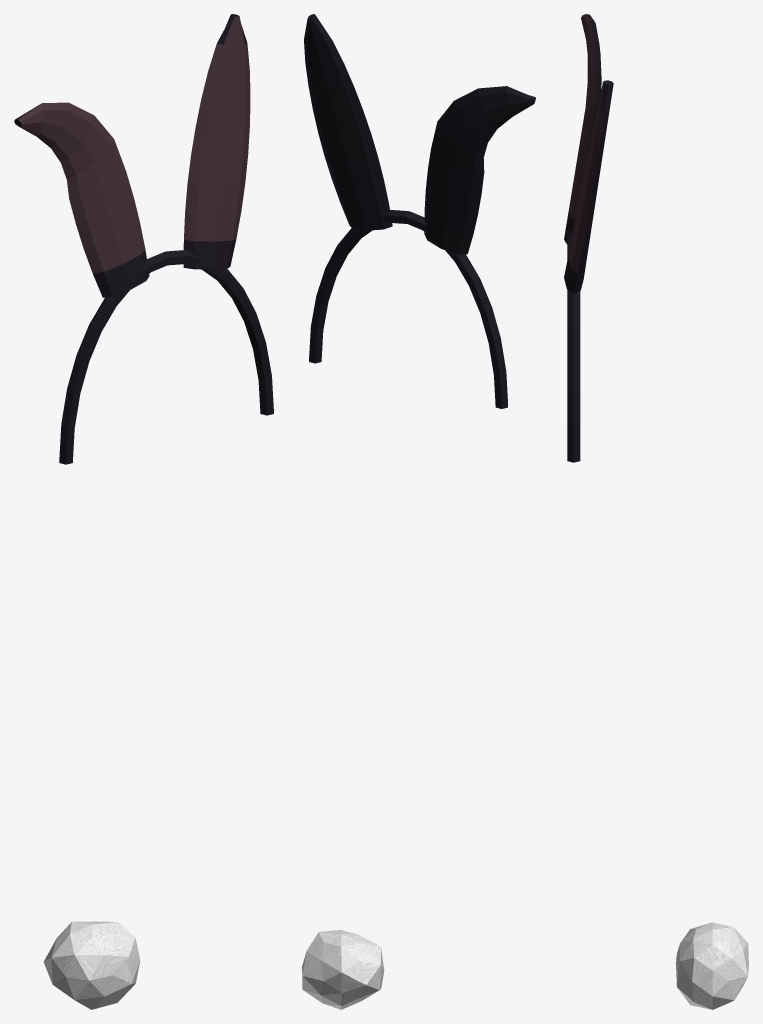
Rendered from SM_Helena2_BunnyAccessories.fbx.
3 renders of one model, left to right at view 1: azimuth 30°, elevation 25°; view 2: azimuth 150°, elevation 25°; view 3: azimuth 270°, elevation 25°, orthographic. The views are drawn at different scales.
Parts seen in each view (by area): view 1: BunnyEars, BunnyTail; view 2: BunnyEars, BunnyTail; view 3: BunnyEars, BunnyTail.
Boxes of the visible parts, x1,y1,x2,y2 form: BunnyEars: (14, 14, 273, 464); BunnyTail: (43, 921, 140, 1009); BunnyEars: (304, 14, 535, 408); BunnyTail: (302, 930, 384, 1009); BunnyEars: (564, 14, 613, 462); BunnyTail: (676, 922, 748, 1009).
Size of the model in its own units: 0.2792 by 1.08 by 0.1865.
Materials: 1 (1 with a texture image).
